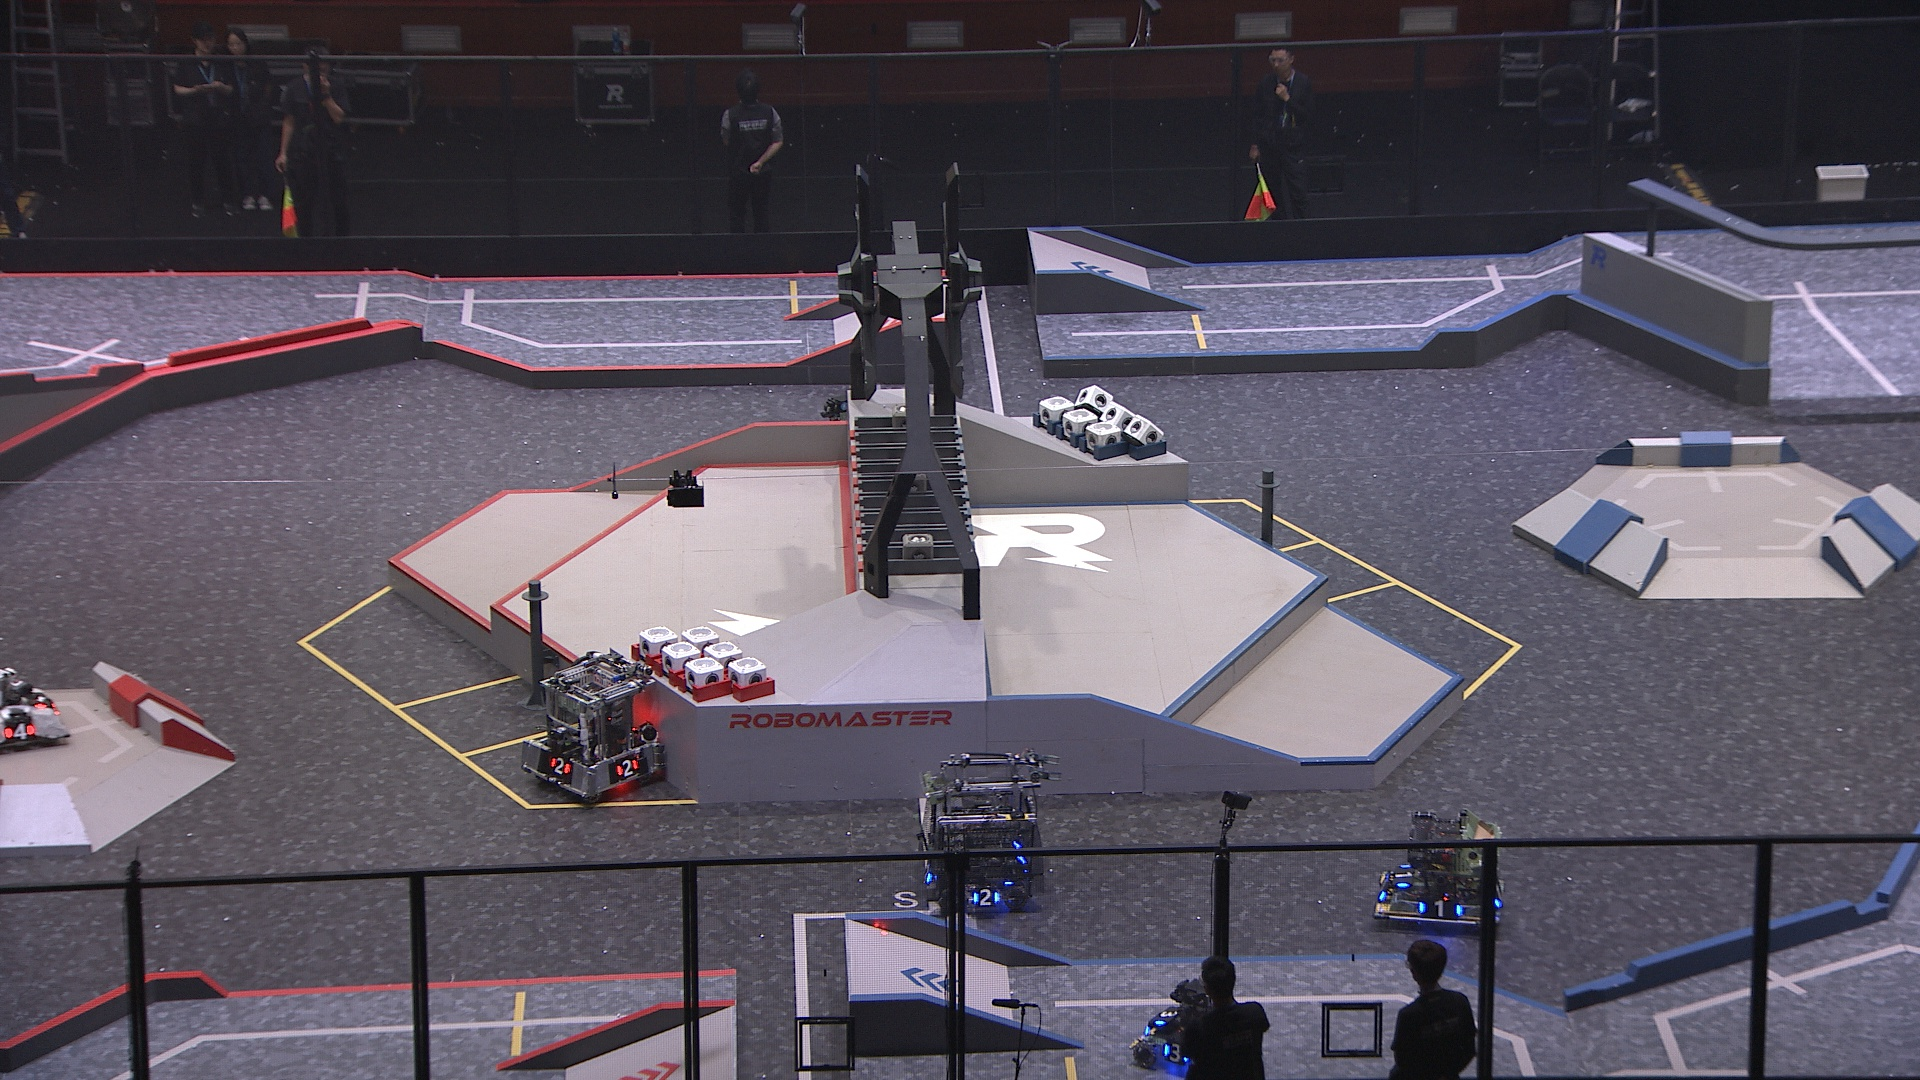armor: (1416, 898, 1462, 918), (3, 723, 38, 741), (972, 887, 1001, 910), (1394, 862, 1415, 893), (1162, 1043, 1191, 1064), (1154, 1007, 1179, 1030), (550, 756, 575, 777), (615, 760, 641, 779), (1377, 870, 1393, 903), (1491, 882, 1509, 910)
car: (517, 651, 662, 802), (916, 750, 1044, 916), (1371, 812, 1509, 934), (1125, 978, 1247, 1073)
